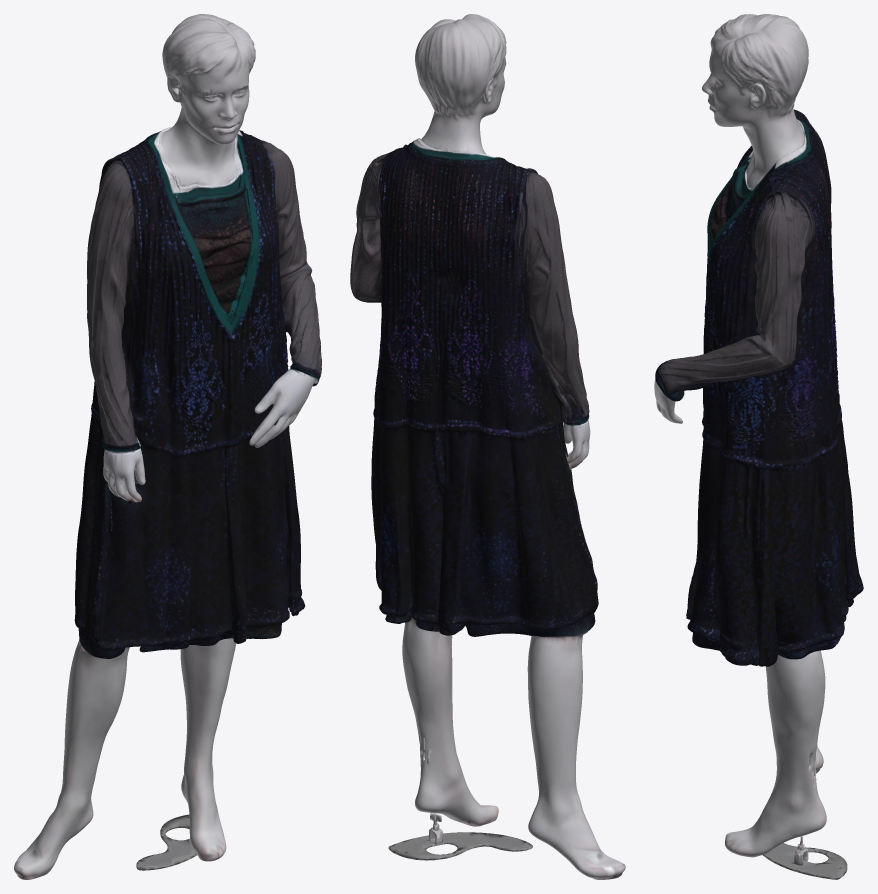
3 renders of one model, left to right at view 1: azimuth 30°, elevation 25°; view 2: azimuth 150°, elevation 25°; view 3: azimuth 270°, elevation 25°, orthographic. The views are drawn at different scales.
Parts seen in each view (by area): view 1: tripo_node_ecd29e63-85db-4f8e-90e3-f46cc01f49de; view 2: tripo_node_ecd29e63-85db-4f8e-90e3-f46cc01f49de; view 3: tripo_node_ecd29e63-85db-4f8e-90e3-f46cc01f49de.
Part boxes in pixels (x1,y1,x2,y2): tripo_node_ecd29e63-85db-4f8e-90e3-f46cc01f49de: [14, 14, 321, 879]; tripo_node_ecd29e63-85db-4f8e-90e3-f46cc01f49de: [350, 14, 625, 879]; tripo_node_ecd29e63-85db-4f8e-90e3-f46cc01f49de: [654, 14, 863, 879].
Size of the model in its own units: 0.3497 by 0.978 by 0.2198.
1 material, 1 textured.
